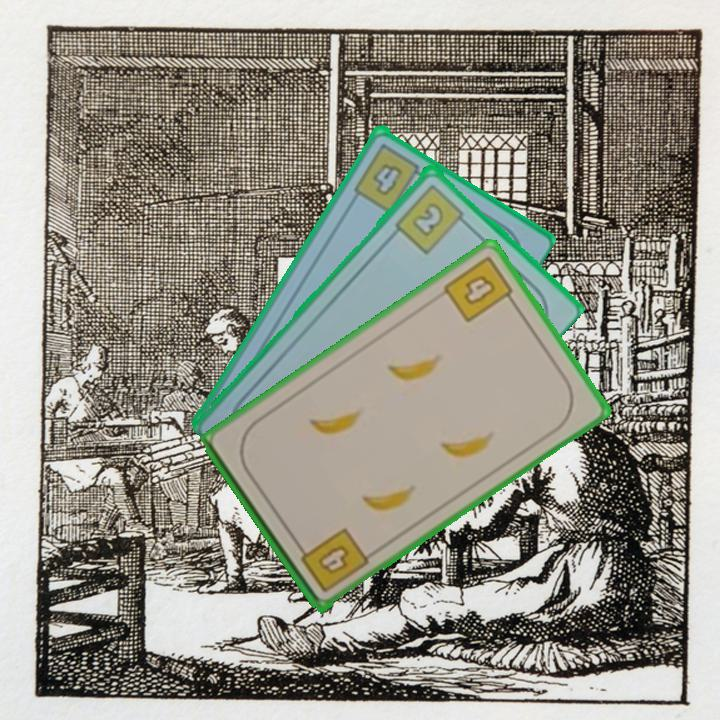2b: (391, 179, 472, 256)
4b: (350, 138, 430, 215), (439, 252, 520, 326), (293, 524, 372, 596)
